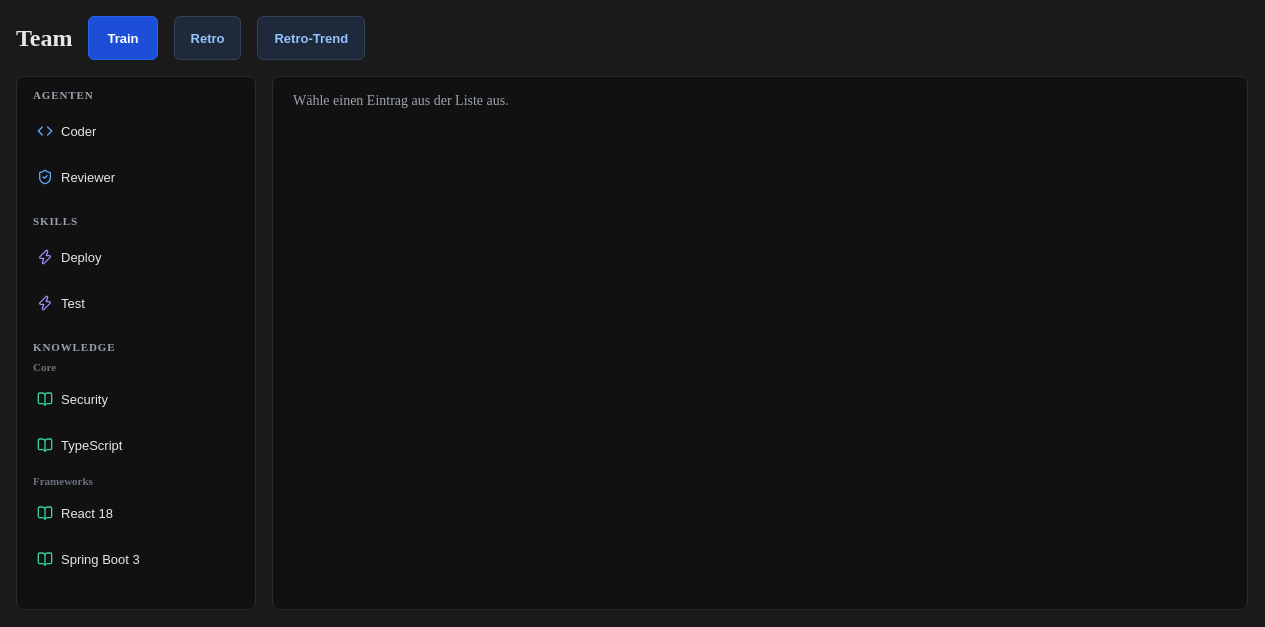
TeamView — team-detail-related-refs AC7: Agent chip sections render › renders "Zugehörige Skills" section when relatedSkills is non-empty
Click the button "Coder".
click(136, 131)  # box [25, 109, 247, 153]
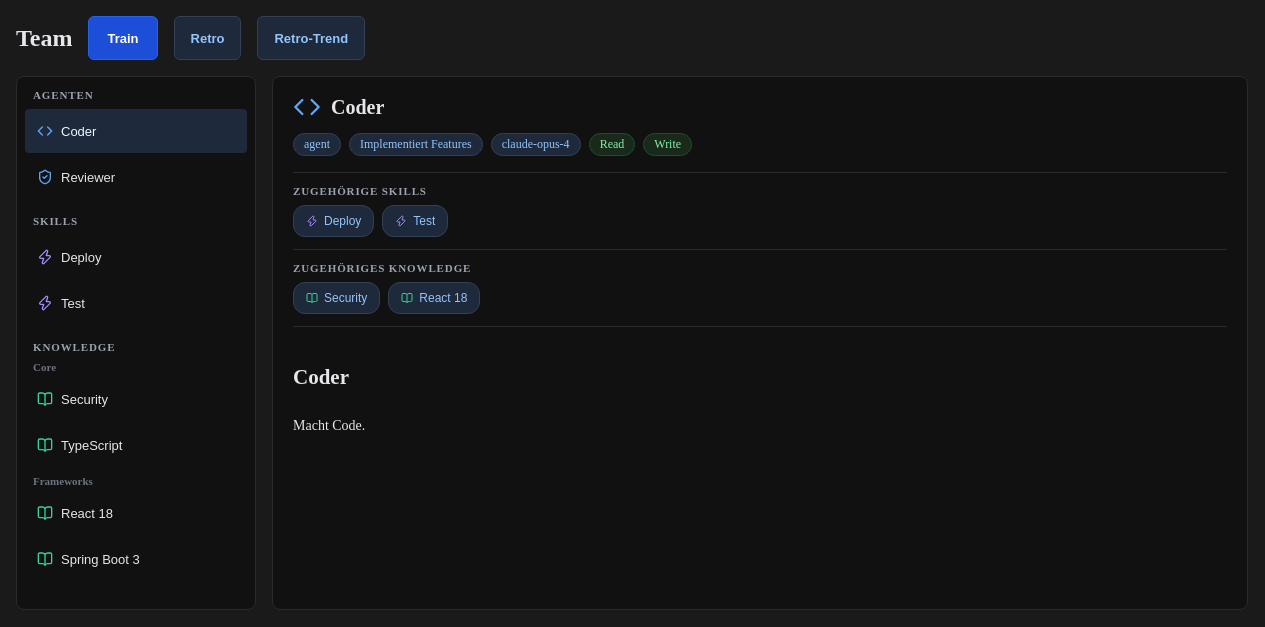
Now the heading "Zugehörige Skills" is shown, box [293, 185, 427, 197]
